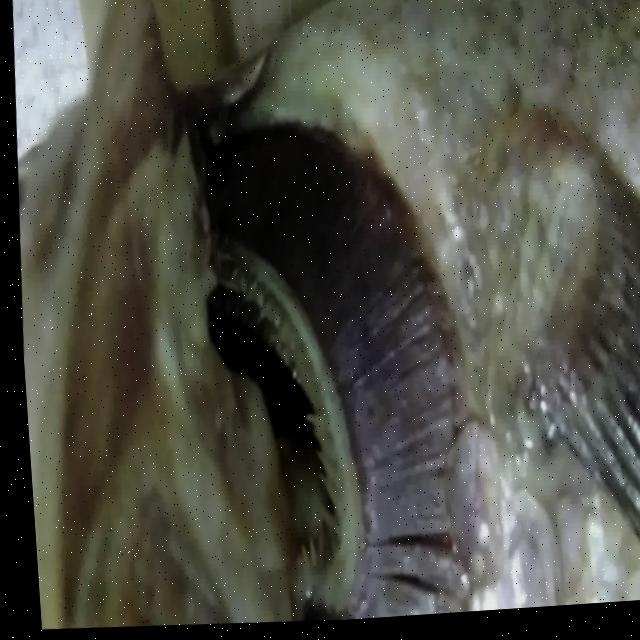Non-Fresh: (179, 120, 511, 631)
